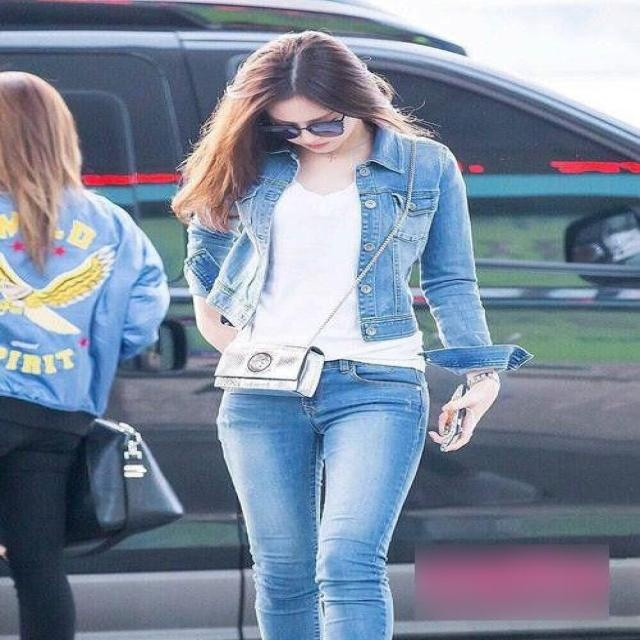obstacle: (210, 14, 449, 619)
